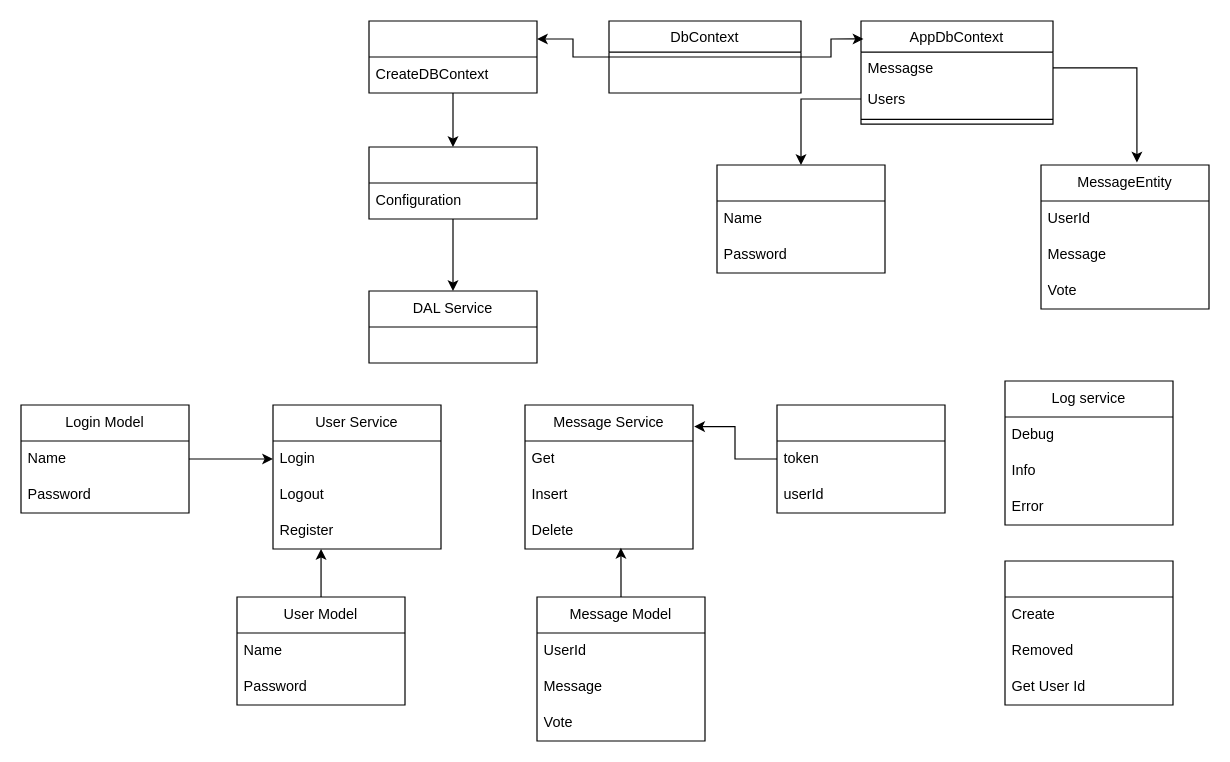
Some shapes in this 1230 by 762 pixel diagram are drawn without their labels. The box of each missing label's shape, as (x1, y1, x2, y2) in pixels:
JWT Service: (1004, 560, 1173, 705)
Repository: (368, 146, 537, 219)
Repository Base: (368, 20, 537, 93)
Token Model: (776, 404, 945, 513)
User Entity: (716, 164, 885, 273)
